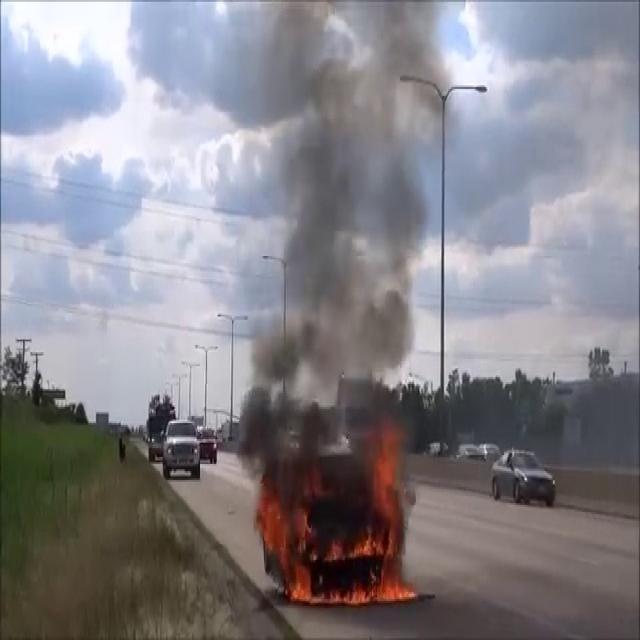Fire: (260, 431, 420, 611)
Smoke: (240, 1, 438, 476)
